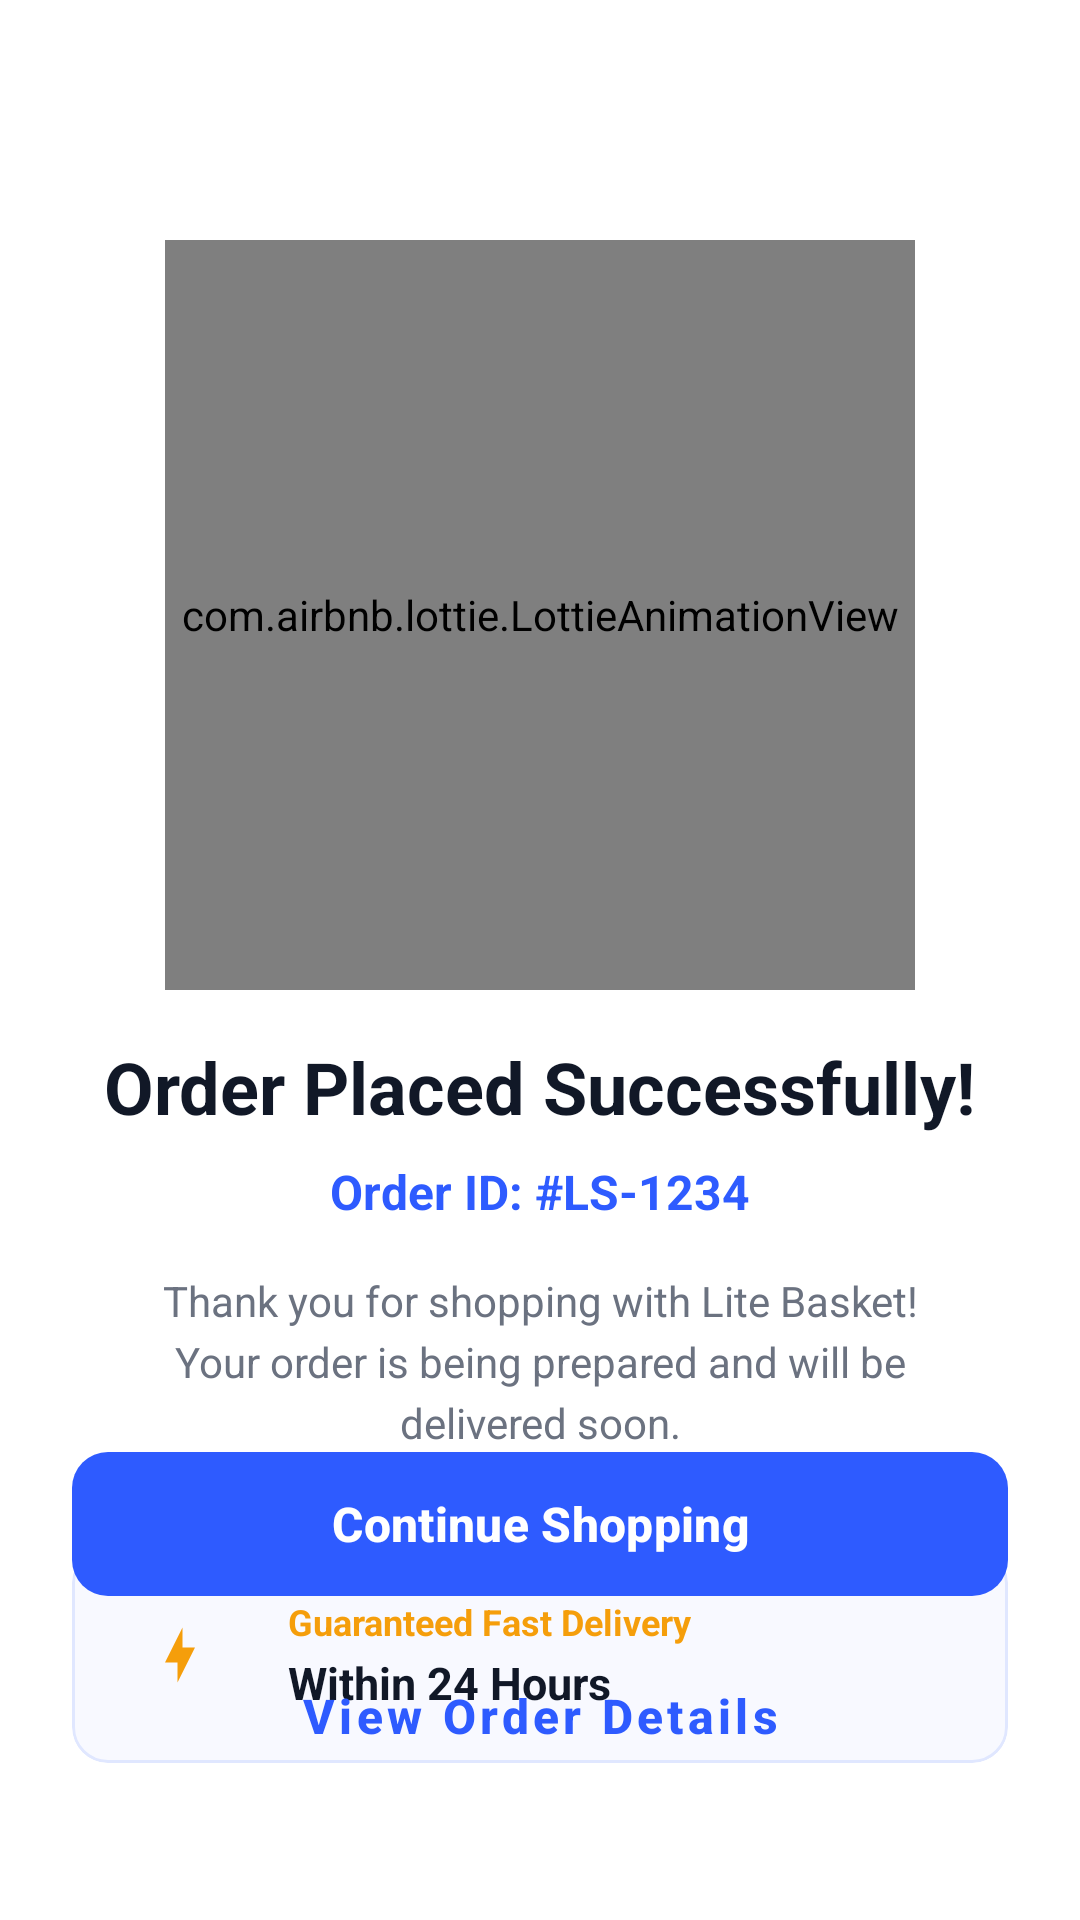

Locate icon controls on the screen. Image size 1080px×1920px, boxes as (x1, y1, x2, y2).
bolt: (165, 1628, 195, 1682)
